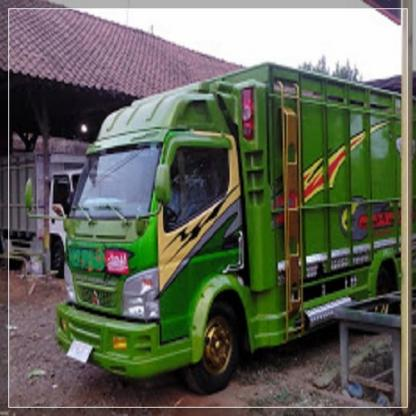truck: (52, 61, 416, 389)
